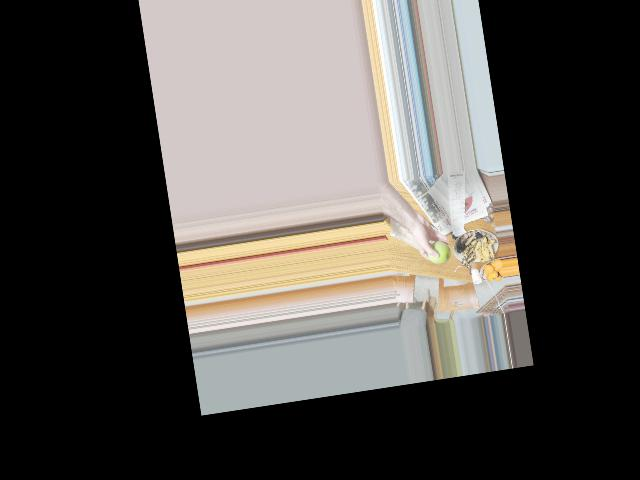apple: (427, 235, 452, 266)
